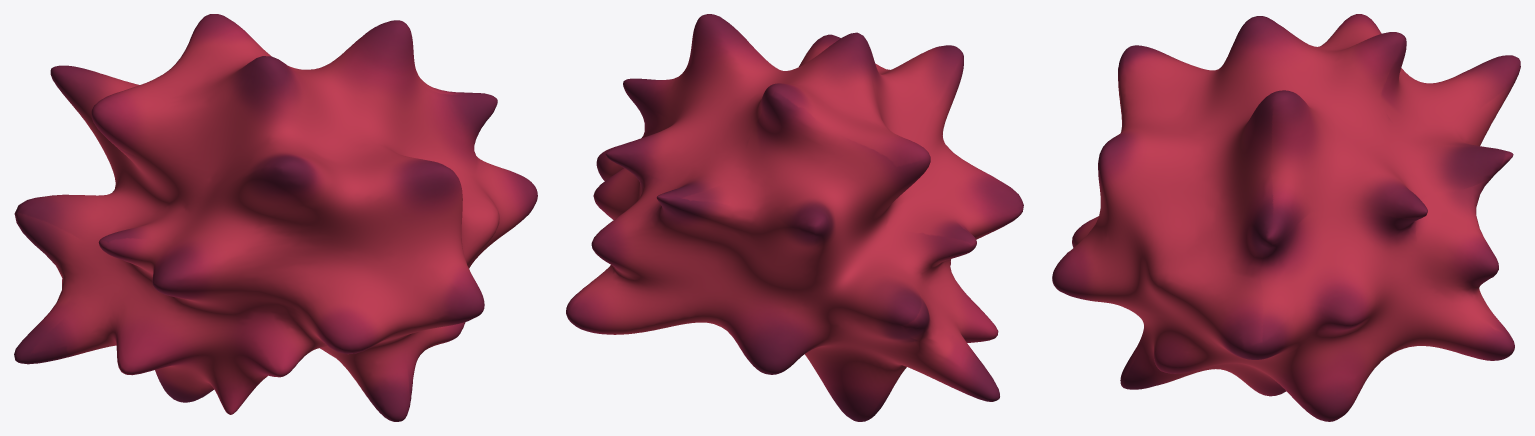
Rendered from planetC.gltf.
3 renders of one model, left to right at view 1: azimuth 30°, elevation 25°; view 2: azimuth 150°, elevation 25°; view 3: azimuth 270°, elevation 25°, orthographic. The views are drawn at different scales.
Visible parts, largest first — view 1: _Group40490; view 2: _Group40490; view 3: _Group40490.
Part boxes in pixels (x1,y1,x2,y2): _Group40490: [14, 14, 537, 421]; _Group40490: [566, 14, 1023, 421]; _Group40490: [1052, 14, 1520, 421].
Bounding box in the file's own units: 3.8 × 2.81 × 3.25.
1 material, 1 textured.
